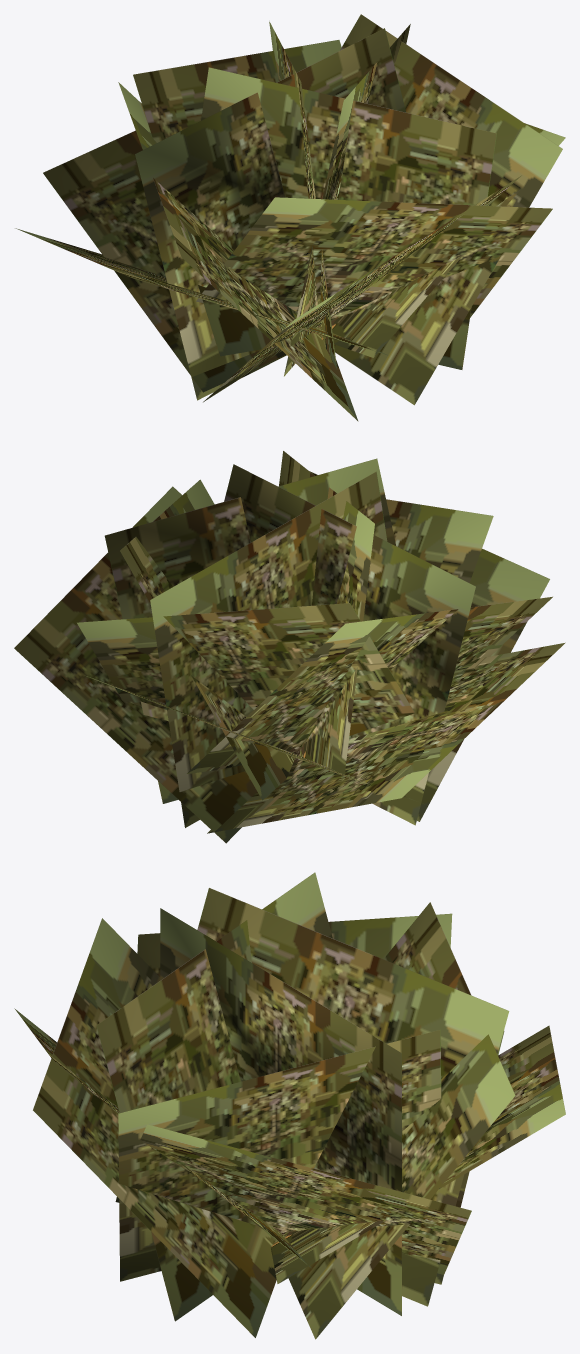
3 views of the same model, one above another, from view 1: azimuth 30°, elevation 25°; view 2: azimuth 150°, elevation 25°; view 3: azimuth 270°, elevation 25° (orthographic). The views are drawn at different scales.
Visible parts, largest first — view 1: _gb01a; view 2: _gb01a; view 3: _gb01a.
Part boxes in pixels (x1,y1,x2,y2): _gb01a: (15,14,565,421); _gb01a: (14,451,565,843); _gb01a: (14,872,565,1339).
Size of the model in its own units: 2.98 by 2.12 by 2.87.
1 material, 1 textured.
